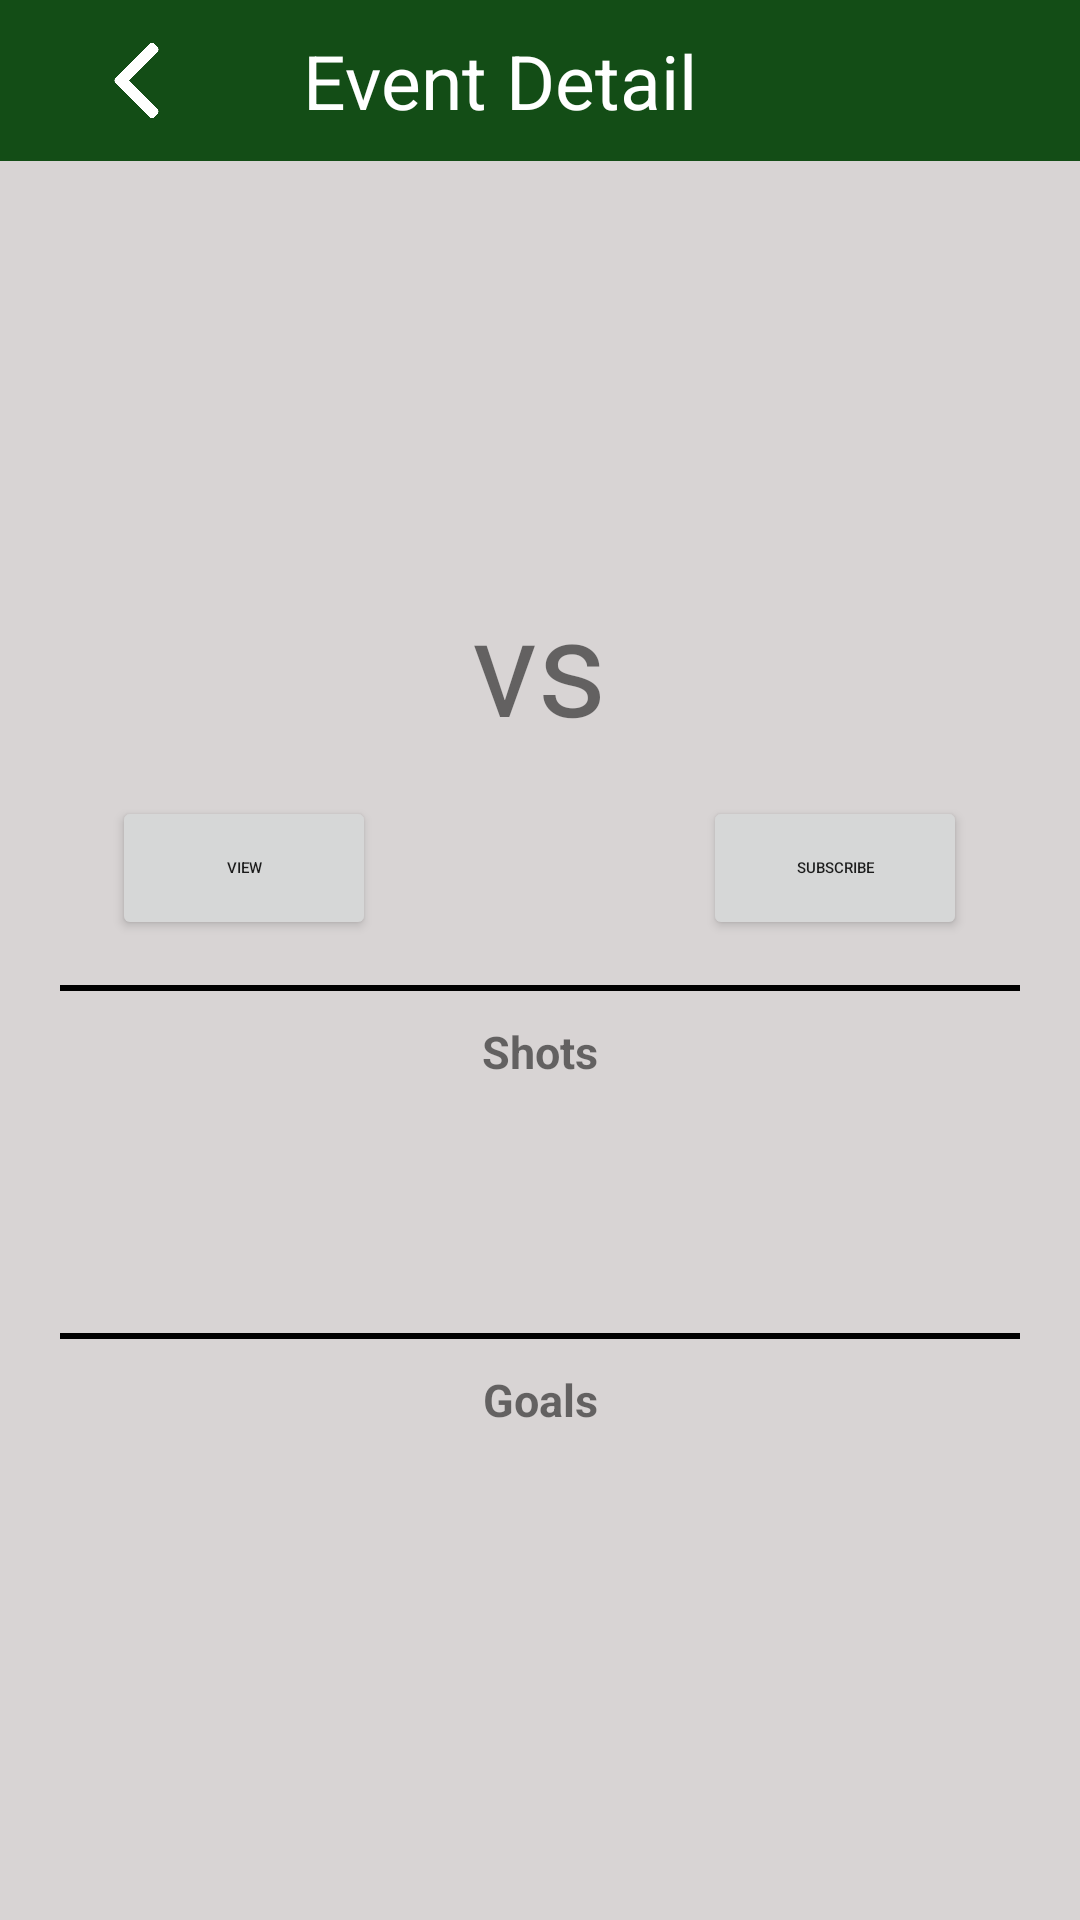

Point at icon controls on the screen. Image size 1080 × 1920, points as point (x, y).
back: point (136, 80)
